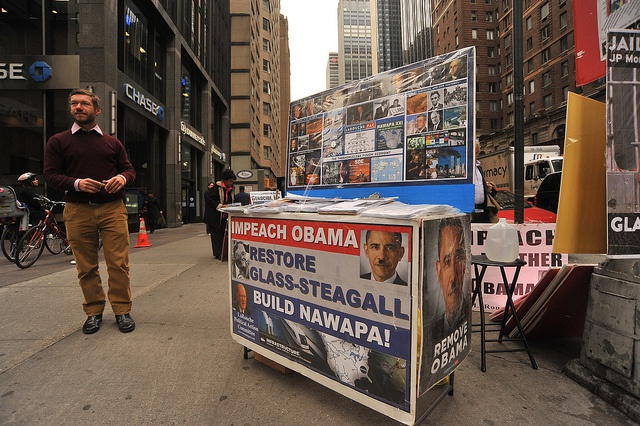non-vehicle: (15, 194, 71, 269), (1, 221, 62, 263)
